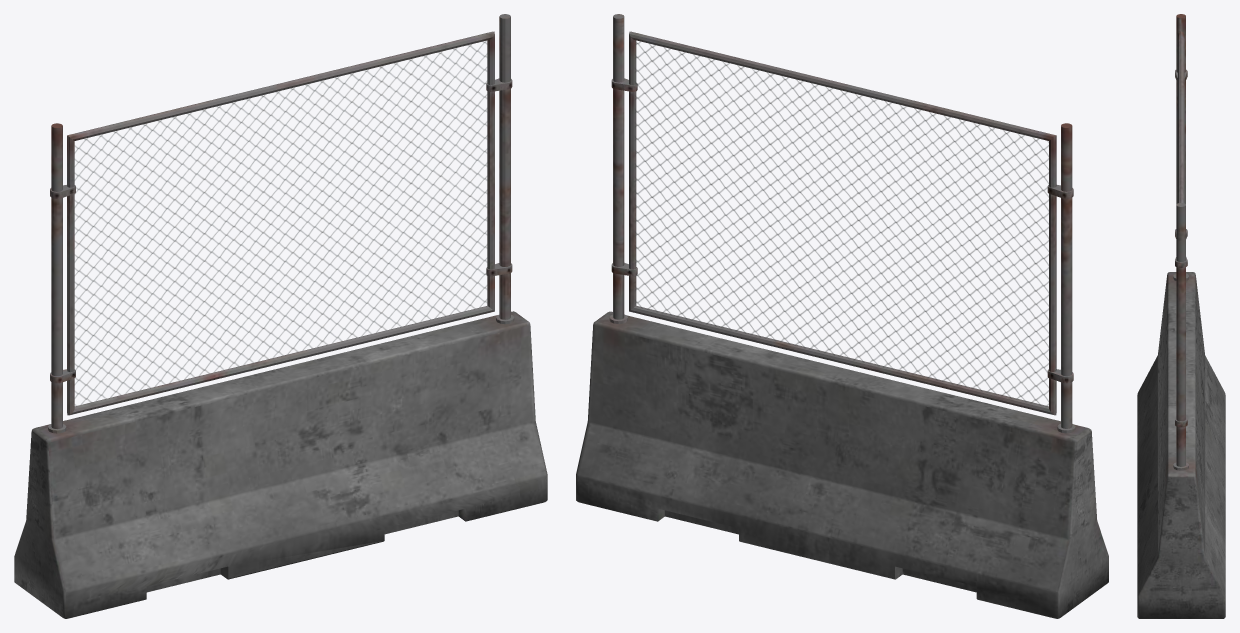
Rendered from o3_cantiere_01.glb.
The picture shows the model from 3 angles, left to right: view 1: azimuth 30°, elevation 25°; view 2: azimuth 150°, elevation 25°; view 3: azimuth 270°, elevation 25°; orthographic projection. The views are drawn at different scales.
Parts seen in each view (by area): view 1: sb_modello; view 2: sb_modello; view 3: sb_modello.
Part boxes in pixels (x1,y1,x2,y2): sb_modello: (14,14,547,618); sb_modello: (576,14,1108,618); sb_modello: (1137,14,1225,618).
Size of the model in its own units: 2.63 by 2.45 by 0.4802.
Materials: 2 (2 with a texture image).
